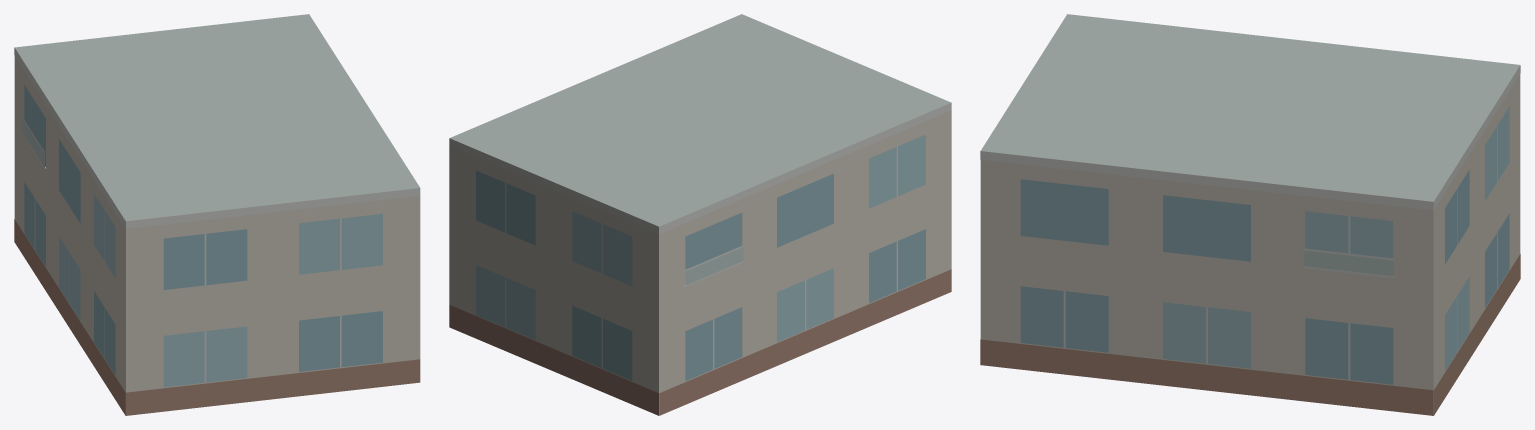
The model's file is survey-upis-32911736.glb.
3 renders of one model, left to right at view 1: azimuth 30°, elevation 25°; view 2: azimuth 150°, elevation 25°; view 3: azimuth 270°, elevation 25°, orthographic. The views are drawn at different scales.
Parts seen in each view (by area): view 1: survey-upis-32911736.tmp; view 2: survey-upis-32911736.tmp; view 3: survey-upis-32911736.tmp.
Boxes of the visible parts, left/top/right/bottom form: survey-upis-32911736.tmp: left=14, top=14, right=420, bottom=415; survey-upis-32911736.tmp: left=449, top=14, right=951, bottom=415; survey-upis-32911736.tmp: left=980, top=14, right=1520, bottom=415.
Size of the model in its own units: 11.49 by 6.1 by 13.96.
